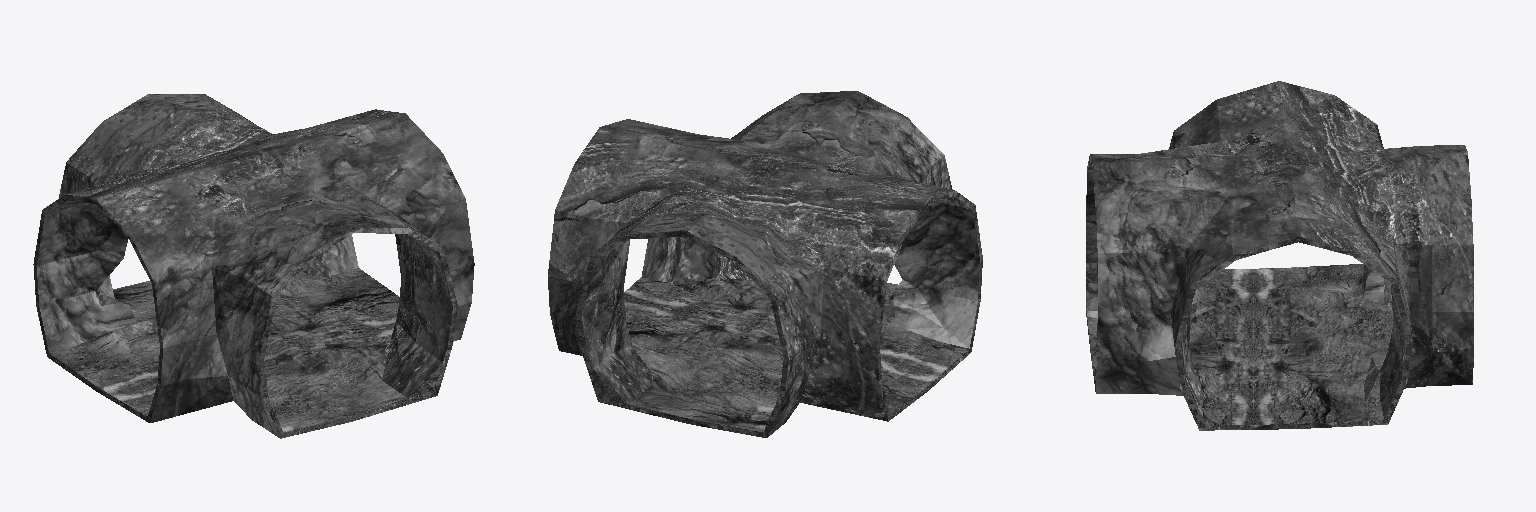
3 renders of one model, left to right at view 1: azimuth 30°, elevation 25°; view 2: azimuth 150°, elevation 25°; view 3: azimuth 270°, elevation 25°, orthographic.
Visible parts, largest first — view 1: cavelarge; view 2: cavelarge; view 3: cavelarge.
Boxes of the visible parts, x1,y1,x2,y2 form: cavelarge: [33, 94, 474, 438]; cavelarge: [548, 91, 982, 437]; cavelarge: [1086, 81, 1473, 430].
Size of the model in its own units: 163 by 91.18 by 166.
1 materials, 1 textured.